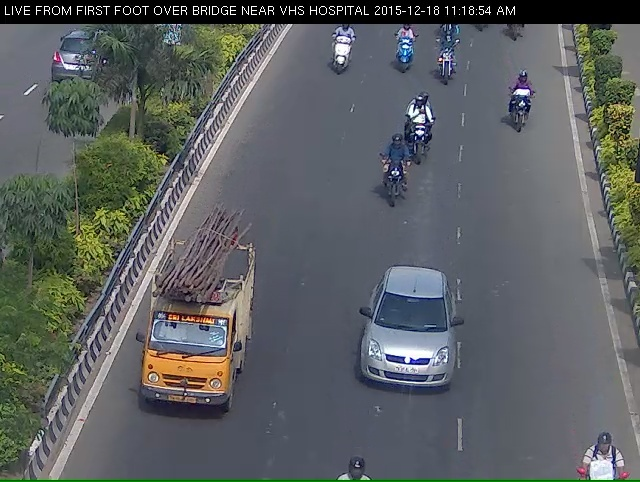Car: (133, 222, 253, 439), (360, 268, 457, 415)
Person: (503, 75, 540, 142), (374, 140, 406, 216), (405, 99, 438, 171), (432, 24, 468, 90), (325, 27, 359, 84), (388, 23, 421, 80)
